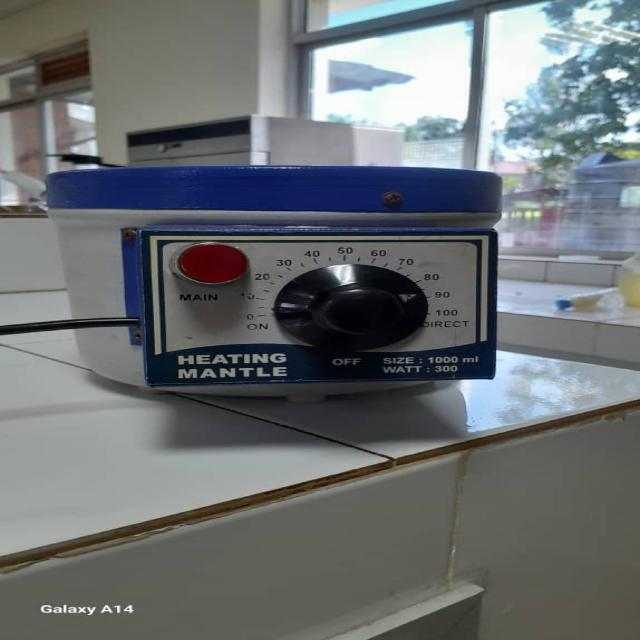Heating Source: (44, 159, 545, 415)
